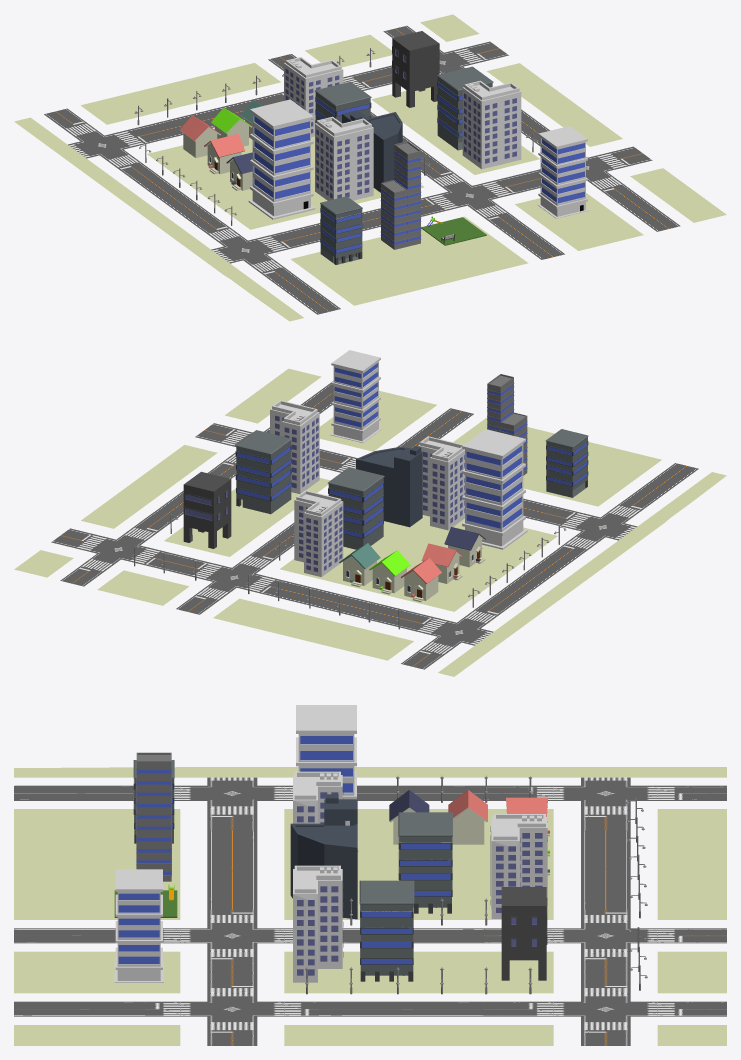
The model's file is 背景道路.fbx.
3 views of the same model, one above another, from view 1: azimuth 30°, elevation 25°; view 2: azimuth 150°, elevation 25°; view 3: azimuth 270°, elevation 25° (orthographic). The views are drawn at different scales.
Parts seen in each view (by area): view 1: 平面.001, 立方体.002, ビル2, ビル2.002, 立方体.001, あべのハルカスもどき, ビル4, ビル3.001, ビル2.001, ビル3, 湾曲型ビル, ビル3.002 (+5 smaller); view 2: 平面.001, 立方体.002, ビル3, 立方体.001, ビル2.001, ビル2.002, 湾曲型ビル, ビル3.002, ビル2, ビル4, ビル3.001, あべのハルカスもどき (+5 smaller); view 3: 平面.001, ビル2, 立方体.001, ビル3, ビル3.002, 湾曲型ビル, ビル2.001, 立方体.002, あべのハルカスもどき, ビル4, ビル2.002, 家.003 (+2 smaller).
Part boxes in pixels (left/top/right/bottom): 平面.001: left=14, top=14, right=726, bottom=321; 立方体.002: left=248, top=99, right=315, bottom=219; ビル2: left=462, top=80, right=521, bottom=169; ビル2.002: left=315, top=116, right=373, bottom=200; 立方体.001: left=537, top=126, right=588, bottom=218; あべのハルカスもどき: left=380, top=141, right=421, bottom=249; ビル4: left=392, top=31, right=439, bottom=107; ビル3.001: left=320, top=196, right=362, bottom=264; ビル2.001: left=284, top=57, right=343, bottom=137; ビル3: left=436, top=66, right=493, bottom=150; 湾曲型ビル: left=342, top=110, right=402, bottom=192; ビル3.002: left=315, top=81, right=371, bottom=123; 平面.001: left=14, top=368, right=726, bottom=676; 立方体.002: left=462, top=429, right=527, bottom=549; ビル3: left=235, top=430, right=292, bottom=514; 立方体.001: left=330, top=350, right=381, bottom=442; ビル2.001: left=294, top=490, right=343, bottom=576; ビル2.002: left=418, top=436, right=464, bottom=530; 湾曲型ビル: left=356, top=446, right=422, bottom=527; ビル3.002: left=328, top=467, right=384, bottom=549; ビル2: left=270, top=400, right=319, bottom=493; ビル4: left=183, top=471, right=231, bottom=548; ビル3.001: left=545, top=429, right=588, bottom=497; あべのハルカスもどき: left=487, top=374, right=527, bottom=475; 平面.001: left=14, top=767, right=726, bottom=1045; ビル2: left=293, top=865, right=343, bottom=982; 立方体.001: left=114, top=869, right=163, bottom=982; ビル3: left=359, top=880, right=414, bottom=981; ビル3.002: left=398, top=812, right=452, bottom=913; 湾曲型ビル: left=290, top=794, right=357, bottom=919; ビル2.001: left=490, top=814, right=547, bottom=918; 立方体.002: left=296, top=705, right=358, bottom=851; あべのハルカスもどき: left=136, top=752, right=171, bottom=881; ビル4: left=501, top=887, right=547, bottom=980; ビル2.002: left=293, top=771, right=343, bottom=823; 家.003: left=448, top=790, right=487, bottom=844.
Bounding box in the file's own units: 10900 × 2237 × 11774.
